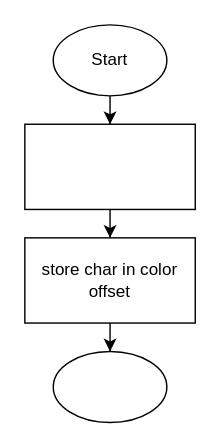
The diagram is 220 pixels wide and 447 high, and some of its shapes have lost their labels. The box of each missing label's shape, as (x1, y1, x2, y2) in pixels:
convert int to char: (23, 123, 195, 209)
Stop: (52, 350, 167, 422)
